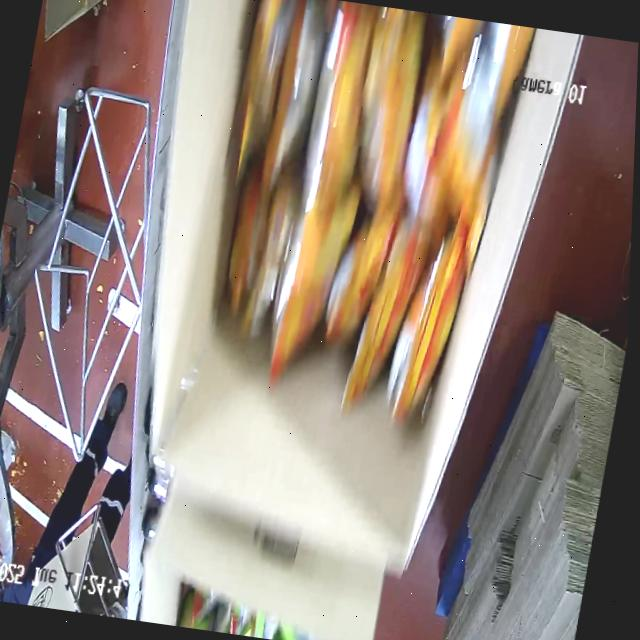FRENCH_CHEESE: (187, 0, 525, 445)
